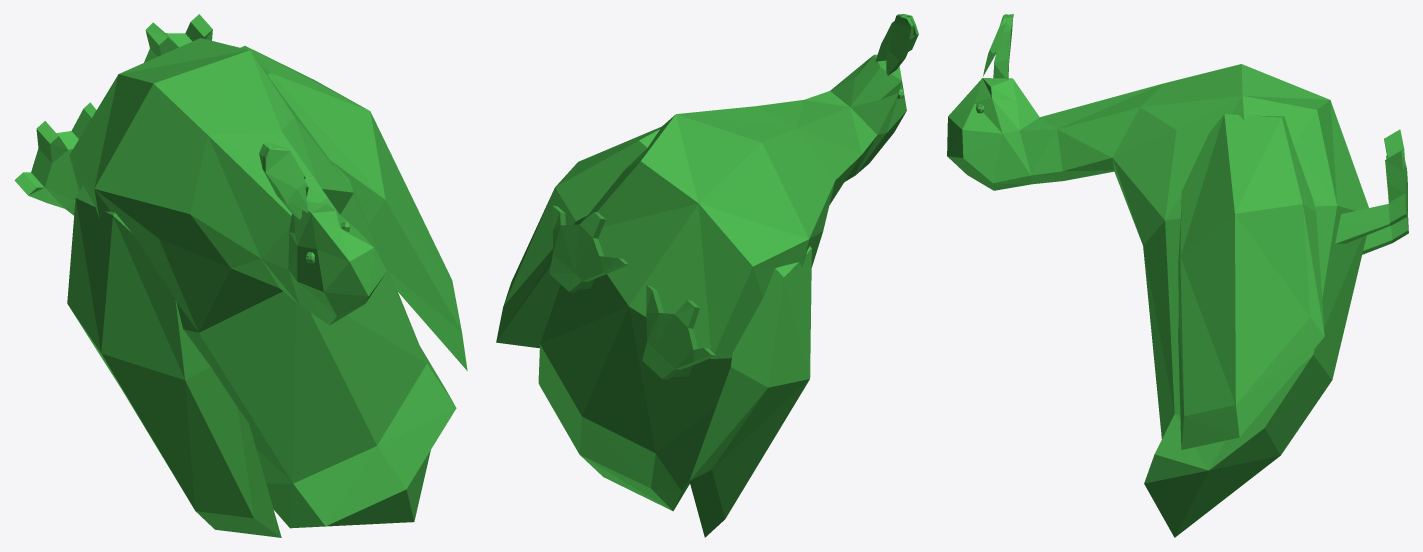
File: tinker.obj
The picture shows the model from 3 angles, left to right: view 1: azimuth 30°, elevation 25°; view 2: azimuth 150°, elevation 25°; view 3: azimuth 270°, elevation 25°; orthographic projection. The views are drawn at different scales.
Parts seen in each view (by area): view 1: obj_0; view 2: obj_0; view 3: obj_0.
Boxes of the visible parts, bbox=[...] form: obj_0: bbox=[14, 14, 467, 537]; obj_0: bbox=[496, 14, 918, 537]; obj_0: bbox=[947, 14, 1408, 537].
Size of the model in its own units: 14.18 by 19.22 by 19.
